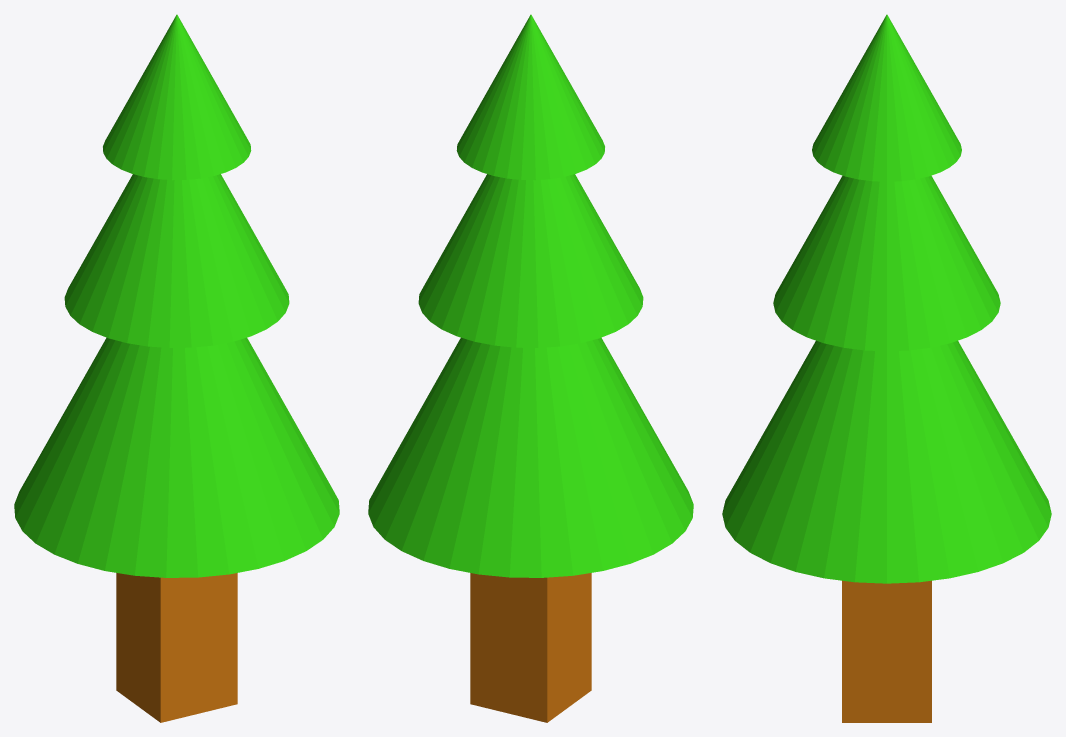
File: tree.fbx
3 views of the same model, side by side, from view 1: azimuth 30°, elevation 25°; view 2: azimuth 150°, elevation 25°; view 3: azimuth 270°, elevation 25° (orthographic).
Visible parts, largest first — view 1: Cone.002, Cube; view 2: Cone.002, Cube; view 3: Cone.002, Cube.
Part boxes in pixels (box(x1,y1,x2,y2)): Cone.002: box(14, 14, 339, 577); Cube: box(116, 573, 237, 722); Cone.002: box(368, 14, 693, 577); Cube: box(470, 573, 591, 722); Cone.002: box(722, 14, 1051, 583); Cube: box(842, 580, 931, 722).
Size of the model in its own units: 302 by 698 by 302.
